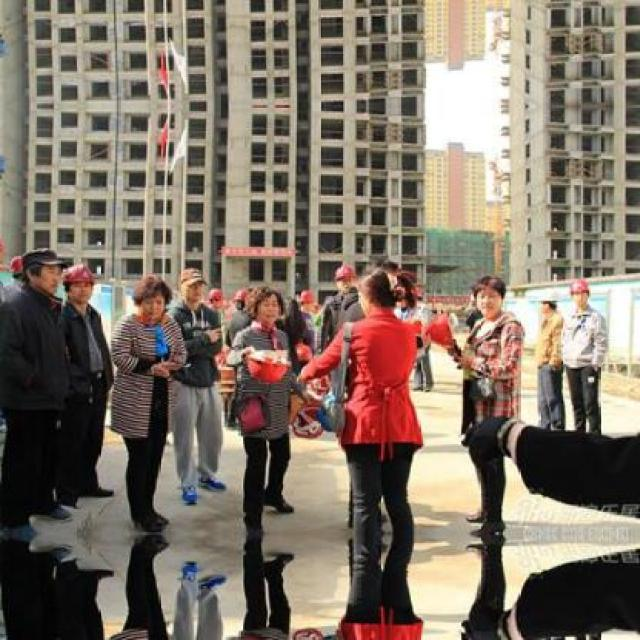helmet: (61, 262, 95, 304), (533, 285, 559, 315), (568, 277, 589, 307), (334, 263, 354, 291), (206, 287, 226, 310), (295, 289, 314, 311)
